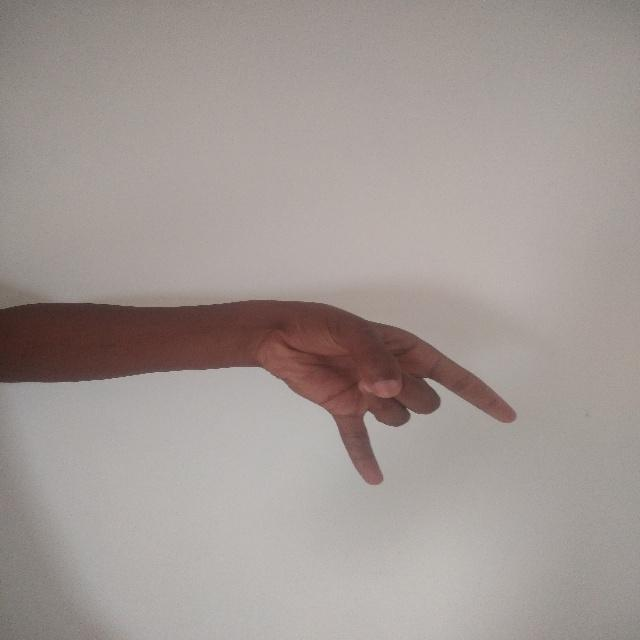Corna: (231, 293, 520, 488)
